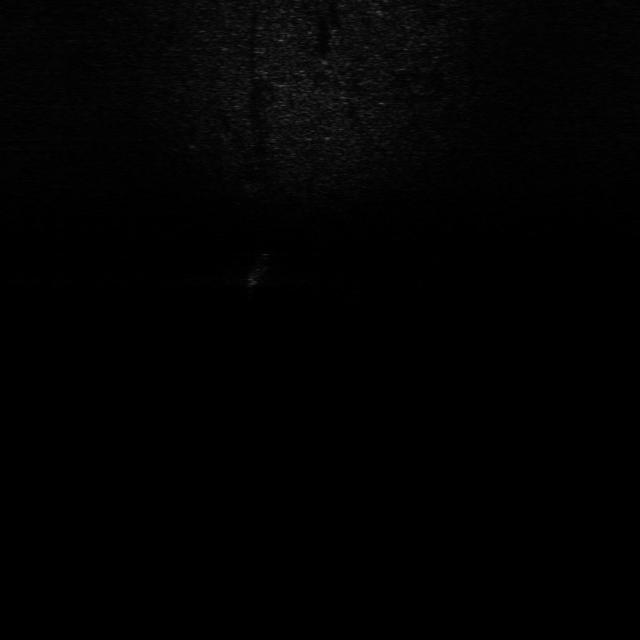human body: (241, 251, 273, 298)
